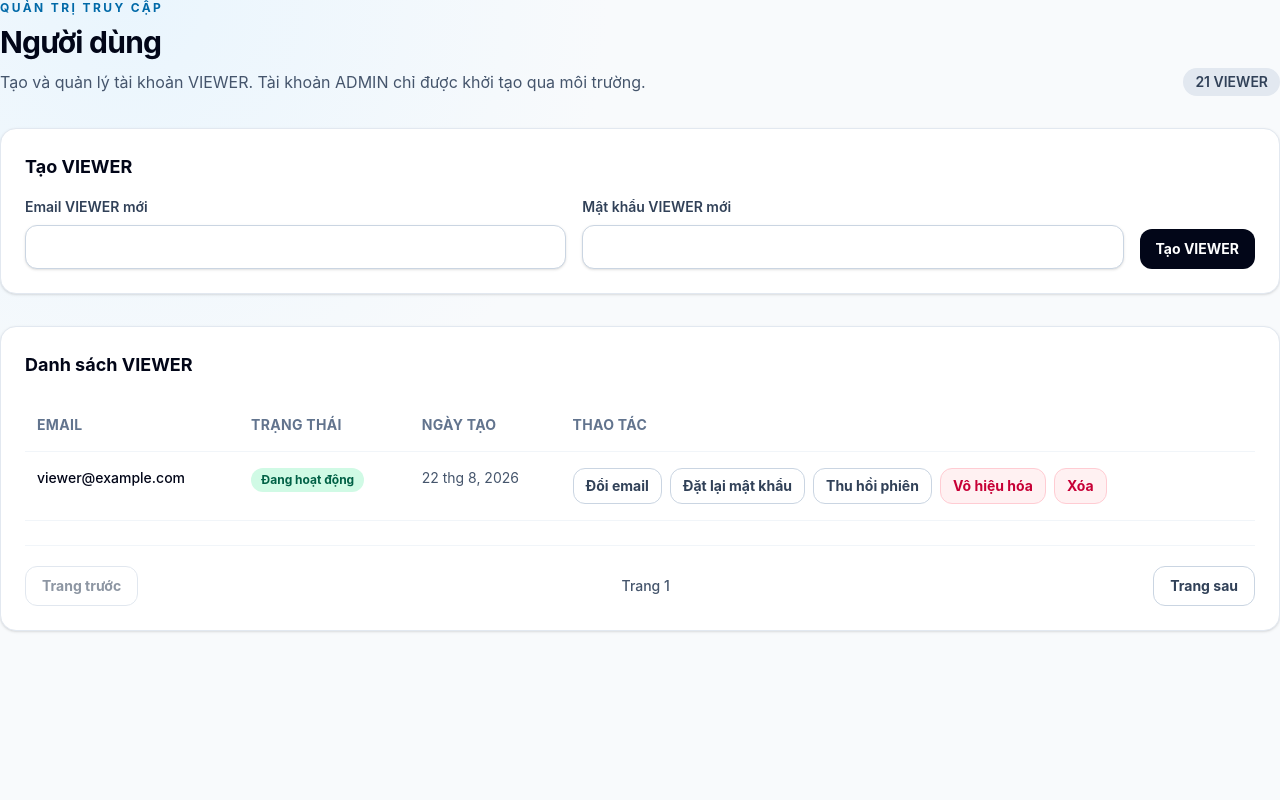
Test: UsersScreen › keeps a delete-alias target in the VIEWER list as disabled with an unchanged total
Expected: the text "viewer@example.com" is shown, [25,452,239,521]
Click the button "Trang sau" at (1204, 586), box [1153,566,1255,606]
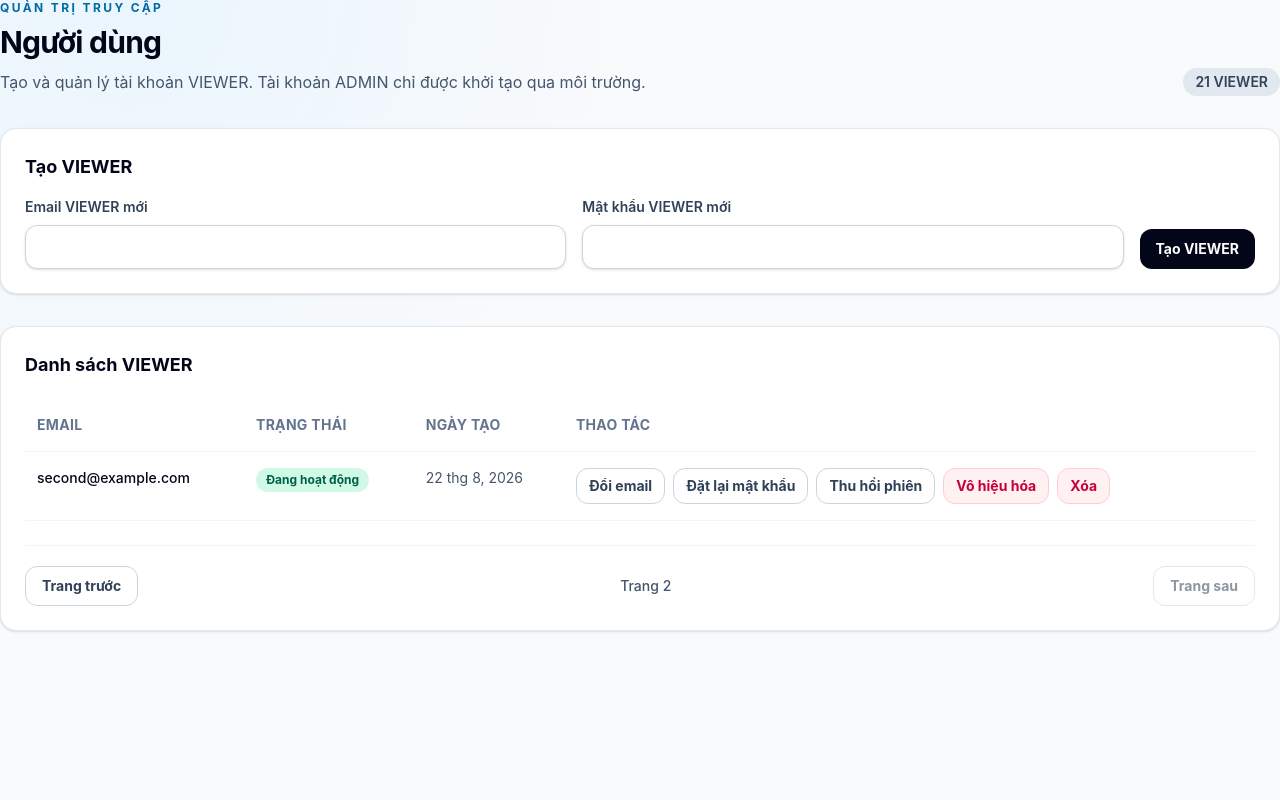
Now the text "second@example.com" is shown, box [25,452,244,521]
Click the button "Xóa" at (1084, 486), box [1057,468,1110,504]
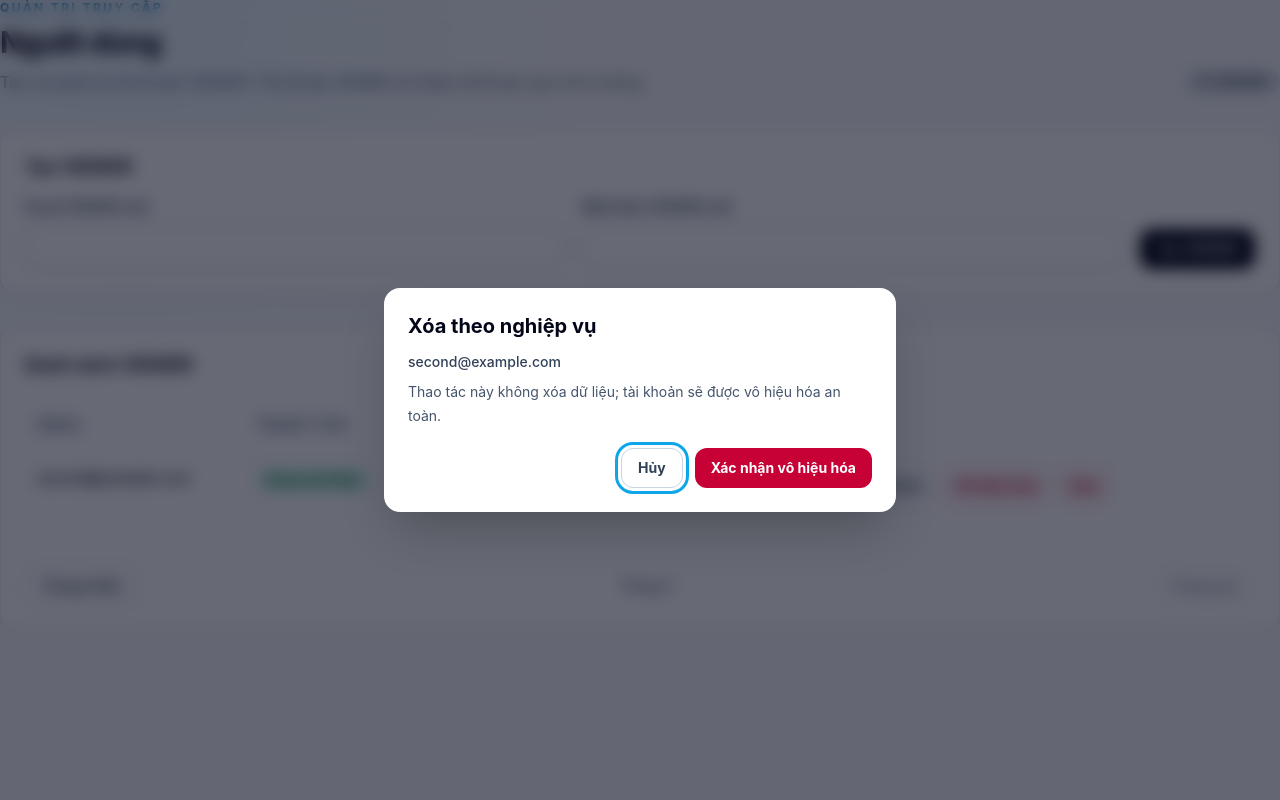
Now the dialog "Xóa theo nghiệp vụ" shows "không xóa dữ liệu", box [408,383,841,424]
Click the button "Xác nhận vô hiệu hóa" at (783, 468), box [695,448,872,488]
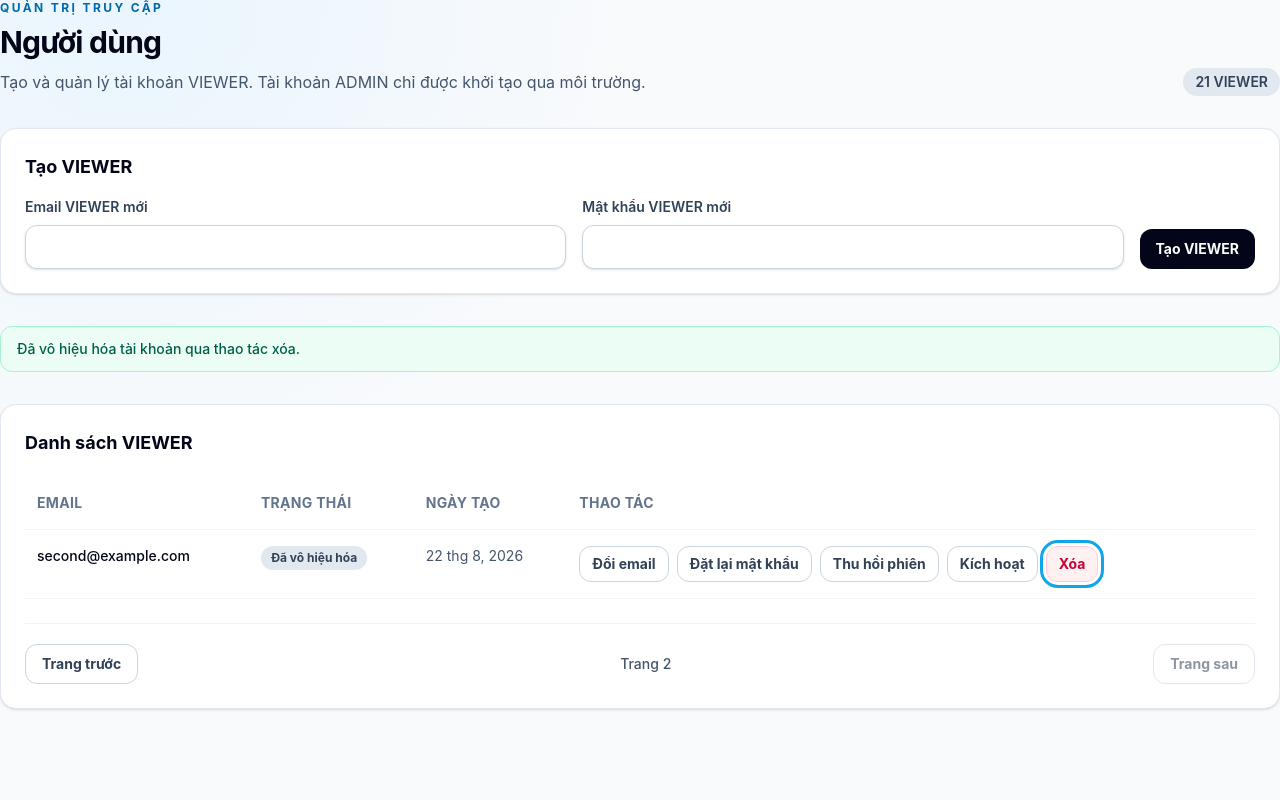
Now the text "second@example.com" is shown, box [25,530,249,599]
Now the text "Trang 2" is shown, box [620,654,671,674]
Now the text "Đã vô hiệu hóa" is shown, box [261,546,367,570]
